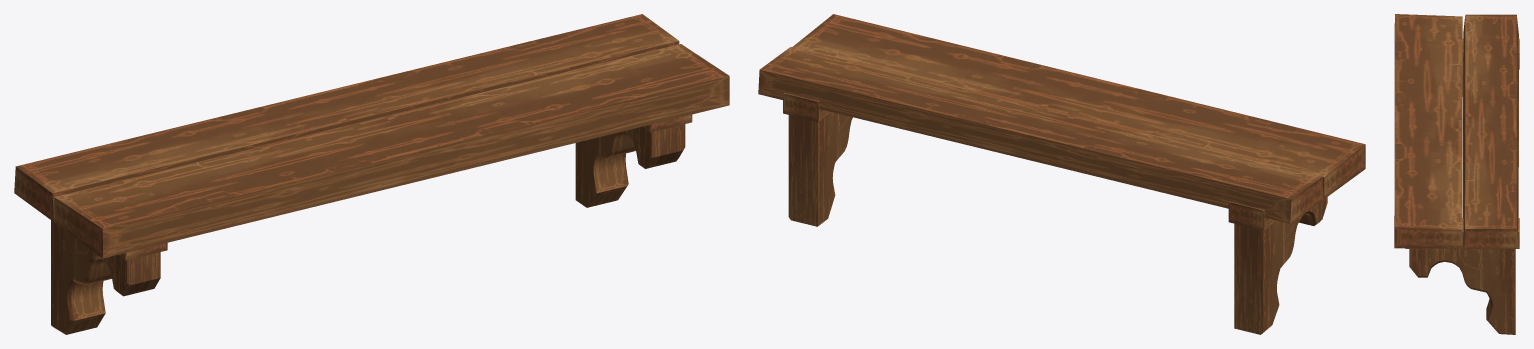
The model's file is Shelf_Simple.gltf.
3 renders of one model, left to right at view 1: azimuth 30°, elevation 25°; view 2: azimuth 150°, elevation 25°; view 3: azimuth 270°, elevation 25°, orthographic. The views are drawn at different scales.
Parts seen in each view (by area): view 1: Shelf_Simple; view 2: Shelf_Simple; view 3: Shelf_Simple.
Part boxes in pixels (x1,y1,x2,y2): Shelf_Simple: (14, 14, 729, 334); Shelf_Simple: (758, 14, 1365, 334); Shelf_Simple: (1394, 14, 1519, 334).
Size of the model in its own units: 1.18 by 0.3087 by 0.2923.
Materials: 1 (1 with a texture image).
